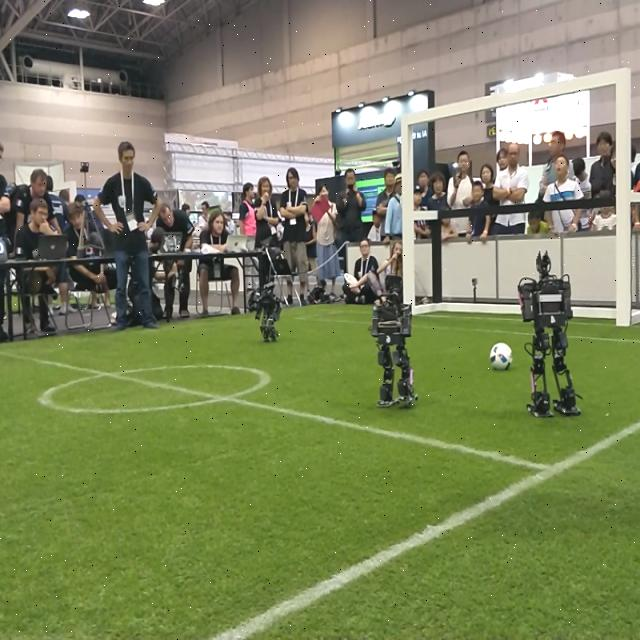ball: (490, 343, 512, 372)
goalpost: (614, 63, 634, 325), (400, 112, 414, 309)
